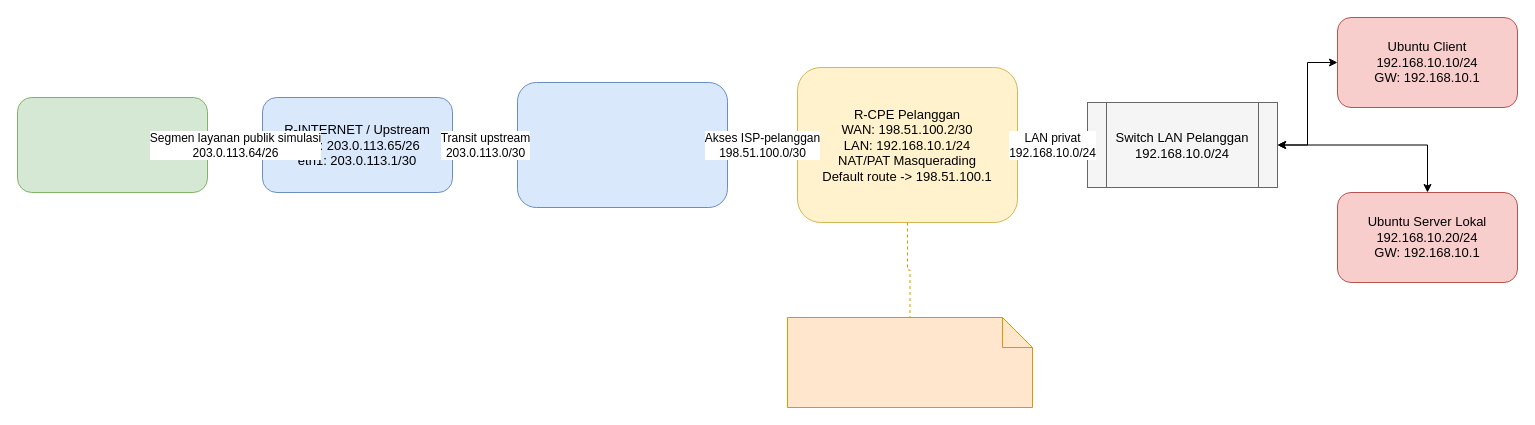
Some shapes in this 1535 by 425 pixel diagram are drawn without their labels. The shapes that lost their labels are listed below. From the top down, each one's box as (x1, y1, x2, y2) in pixels, then its label:
(16, 96, 208, 192): Ubuntu Server Uji Internet 203.0.113.66/26 GW: 203.0.113.65
(516, 82, 728, 208): R-ISP eth0: 203.0.113.2/30 eth1: 198.51.100.1/30 Default route -> 203.0.113.1
(786, 316, 1032, 408): Contoh translasi NAT/PAT: 192.168.10.10 -> 198.51.100.2
